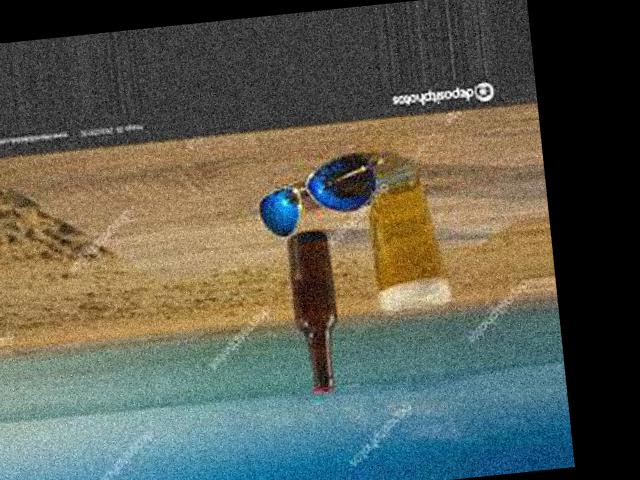beer: (286, 231, 344, 394)
